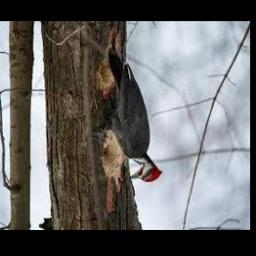Woodpecker: (99, 32, 162, 183)
